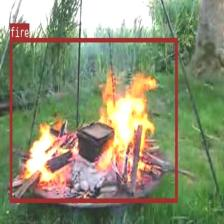fire: (10, 38, 177, 202)
